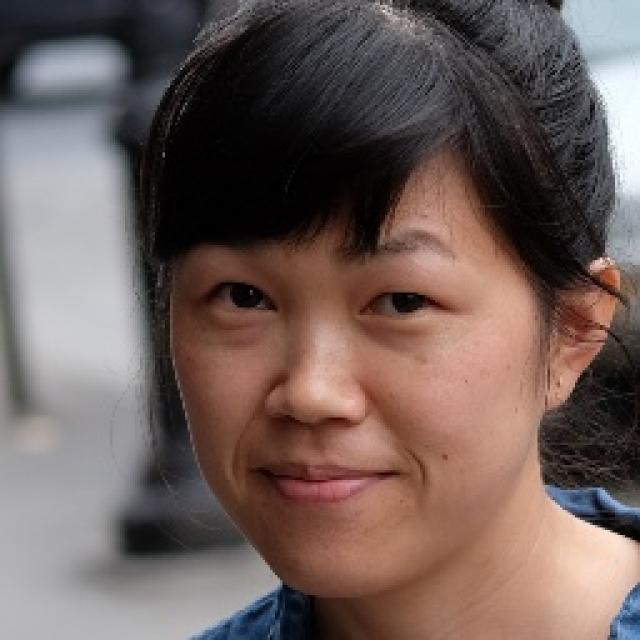earlobe: (543, 259, 623, 411)
